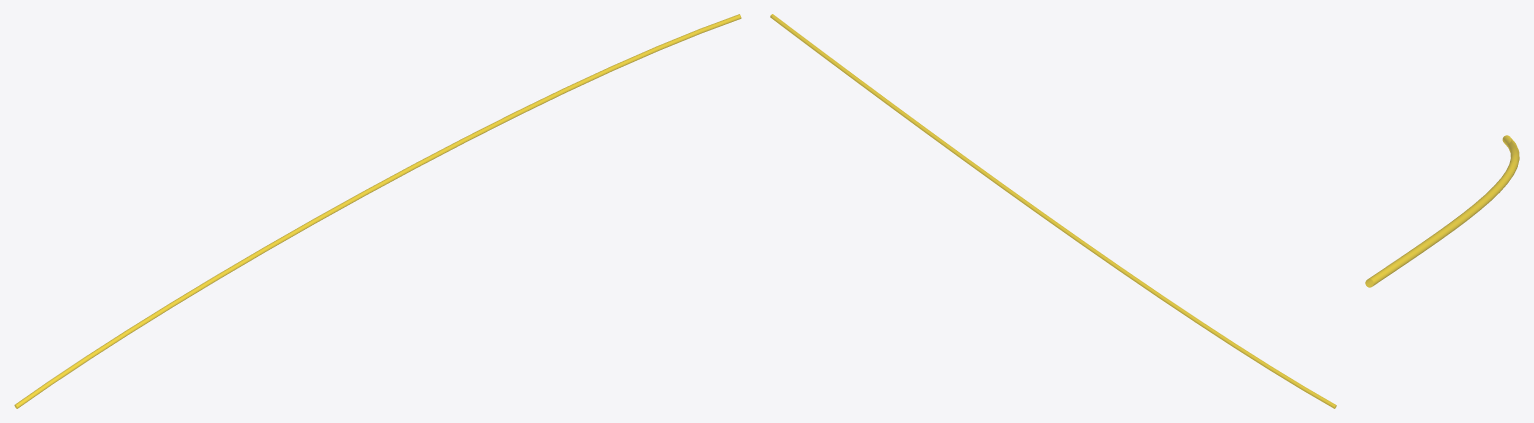
Rendered from Event_17758602_track_52.fbx.
3 renders of one model, left to right at view 1: azimuth 30°, elevation 25°; view 2: azimuth 150°, elevation 25°; view 3: azimuth 270°, elevation 25°, orthographic. The views are drawn at different scales.
Visible parts, largest first — view 1: Model; view 2: Model; view 3: Model.
Part boxes in pixels (x1,y1,x2,y2): Model: (14, 14, 741, 408); Model: (770, 14, 1336, 408); Model: (1365, 135, 1519, 287).
Size of the model in its own units: 6.34 by 2.26 by 0.7062.
